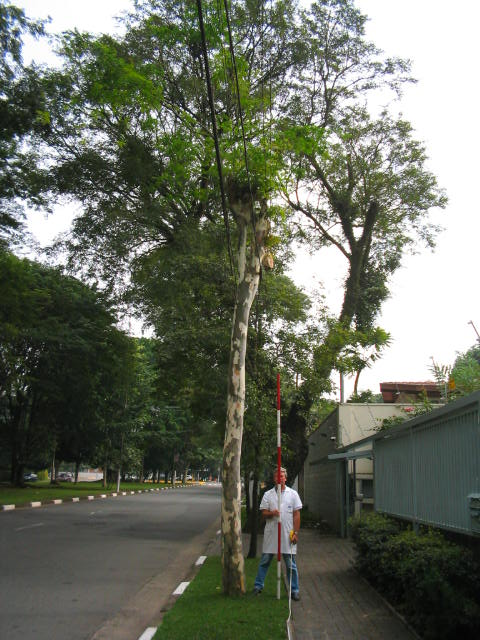crown: (43, 33, 330, 264)
stem: (203, 271, 258, 595)
stick: (268, 374, 288, 599)
tree: (39, 34, 332, 598)
